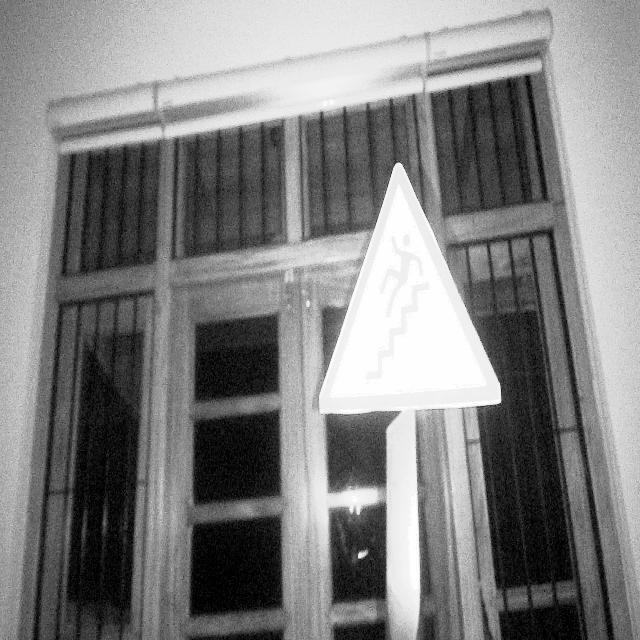Sign: (317, 162, 502, 417)
